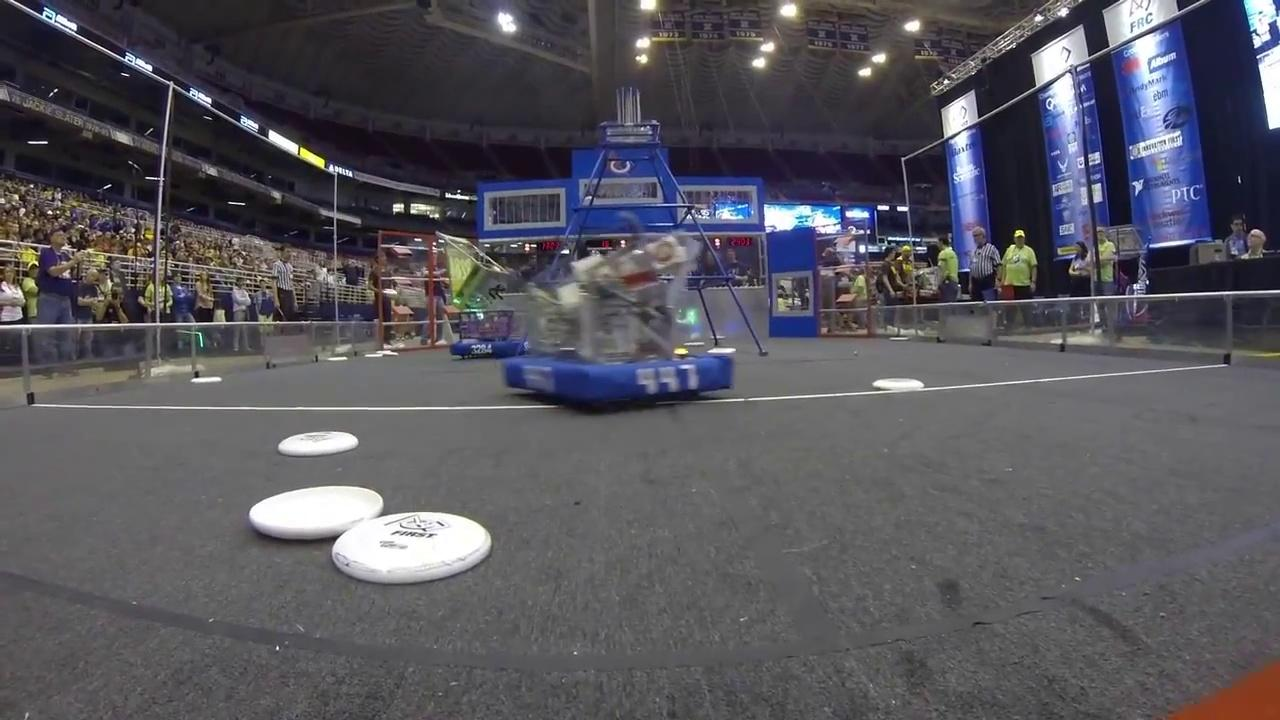robot: (504, 227, 740, 411), (442, 228, 531, 366)
